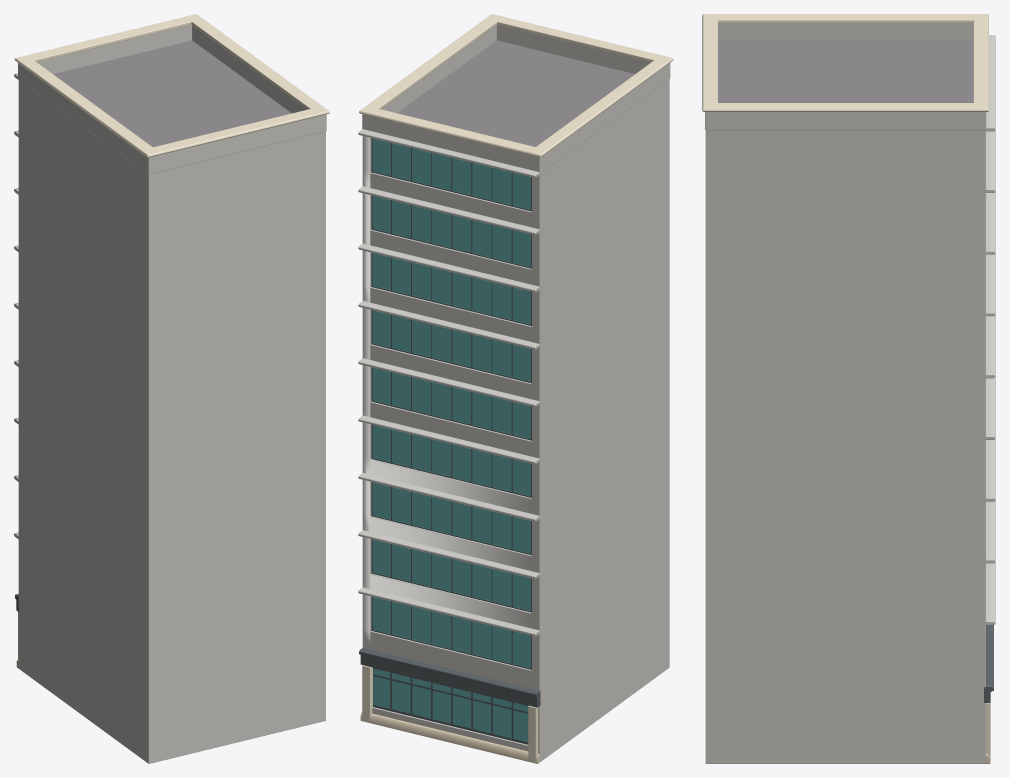
The model's file is far_glassmid_9.glb.
3 views of the same model, side by side, from view 1: azimuth 30°, elevation 25°; view 2: azimuth 150°, elevation 25°; view 3: azimuth 270°, elevation 25° (orthographic). The views are drawn at different scales.
Parts seen in each view (by area): view 1: shell, trim; view 2: shell, trim, frames; view 3: shell, trim.
Boxes of the visible parts, bbox=[...] form: shell: bbox=[18, 40, 325, 763]; trim: bbox=[14, 14, 329, 668]; shell: bbox=[362, 40, 669, 761]; trim: bbox=[358, 14, 673, 763]; frames: bbox=[371, 138, 531, 744]; shell: bbox=[705, 40, 985, 763]; trim: bbox=[702, 14, 995, 763].
Bounding box in the file's own units: 11.31 × 36.15 × 14.63.
